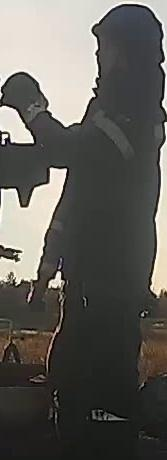gloves: (0, 71, 51, 131)
vest: (66, 85, 167, 290)
